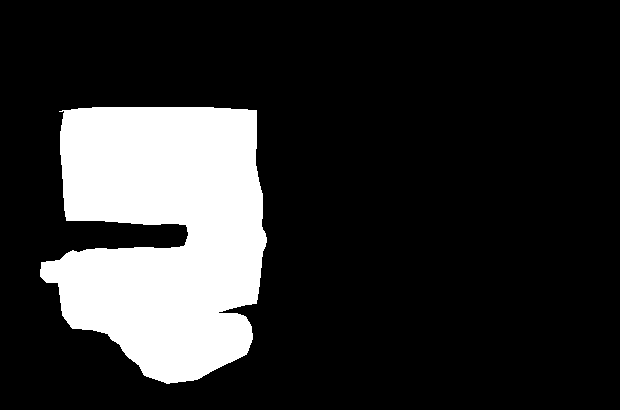type4: (39, 106, 268, 385)
